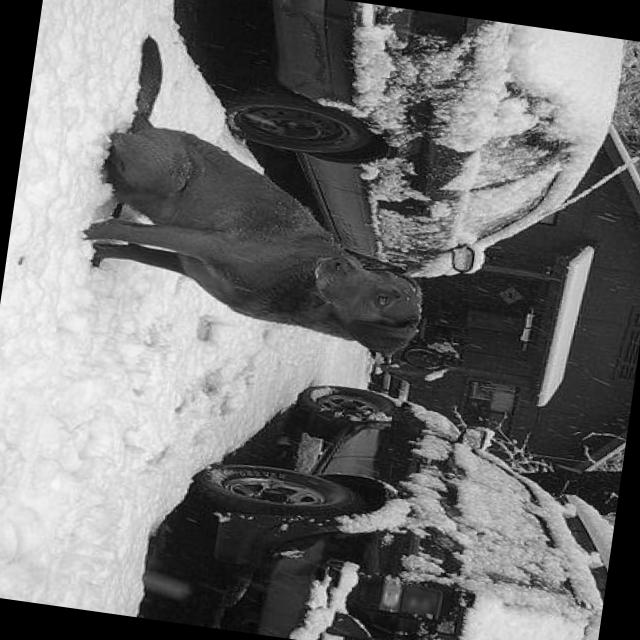sitting: (66, 24, 458, 364)
